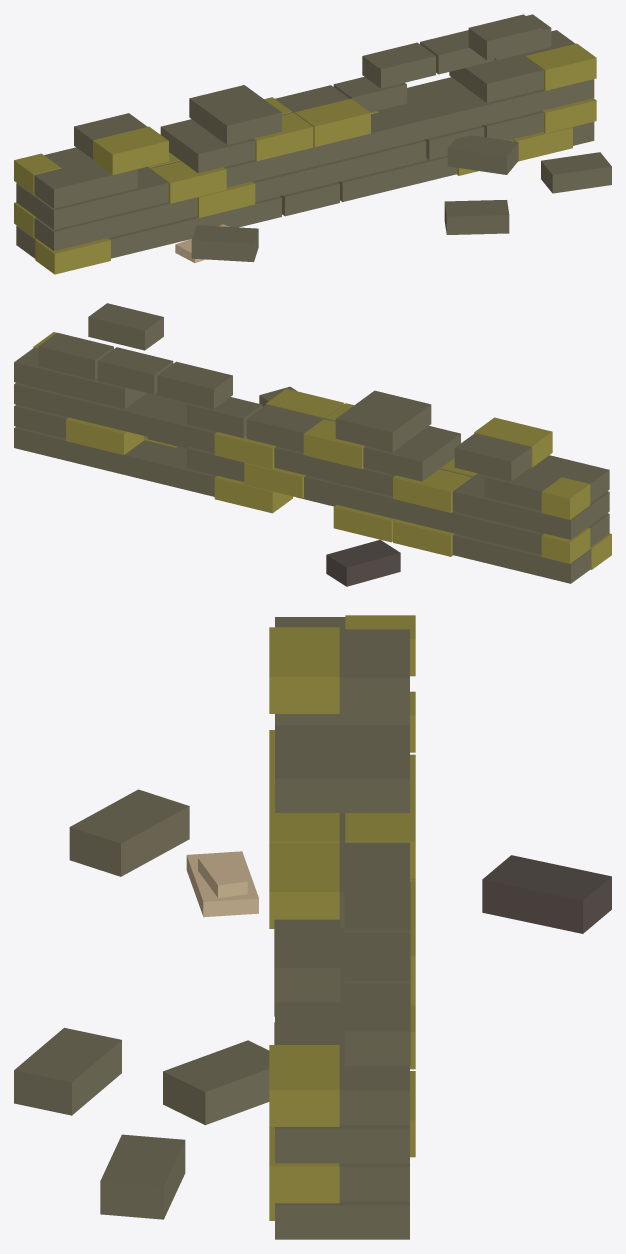
File: SM_MuroSacos_v2_Irregular_e1_Danado_LOD1.fbx
3 renders of one model, top to bottom at view 1: azimuth 30°, elevation 25°; view 2: azimuth 150°, elevation 25°; view 3: azimuth 270°, elevation 25°, orthographic. The views are drawn at different scales.
Visible parts, largest first — view 1: SM_bloques.muro_sacos_estados_v9_LOD1; view 2: SM_bloques.muro_sacos_estados_v9_LOD1; view 3: SM_bloques.muro_sacos_estados_v9_LOD1.
Boxes of the visible parts, x1,y1,x2,y2 form: SM_bloques.muro_sacos_estados_v9_LOD1: [14, 14, 611, 274]; SM_bloques.muro_sacos_estados_v9_LOD1: [14, 303, 611, 586]; SM_bloques.muro_sacos_estados_v9_LOD1: [14, 615, 611, 1239].
Bounding box in the file's own units: 7.98 × 1.78 × 4.25.
